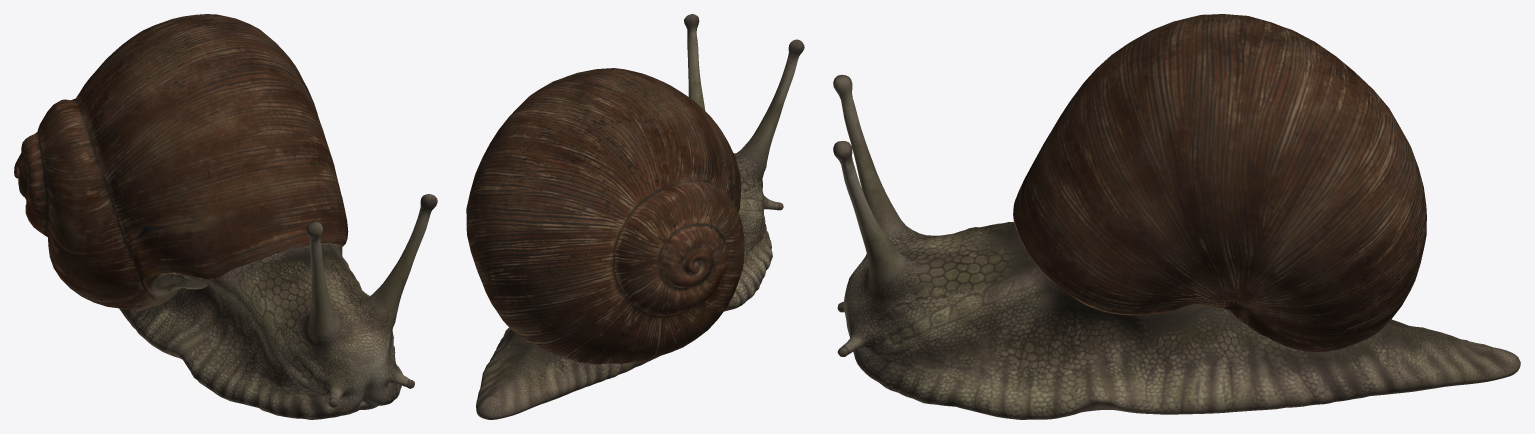
Rendered from snails.gltf.
3 renders of one model, left to right at view 1: azimuth 30°, elevation 25°; view 2: azimuth 150°, elevation 25°; view 3: azimuth 270°, elevation 25°, orthographic. The views are drawn at different scales.
Parts seen in each view (by area): view 1: snail.1_1; view 2: snail.1_1; view 3: snail.1_1.
Boxes of the visible parts, x1,y1,x2,y2 form: snail.1_1: [14, 14, 437, 419]; snail.1_1: [466, 14, 804, 419]; snail.1_1: [833, 14, 1520, 419].
Size of the model in its own units: 0.2518 by 0.2696 by 0.484.
1 material, 1 textured.
